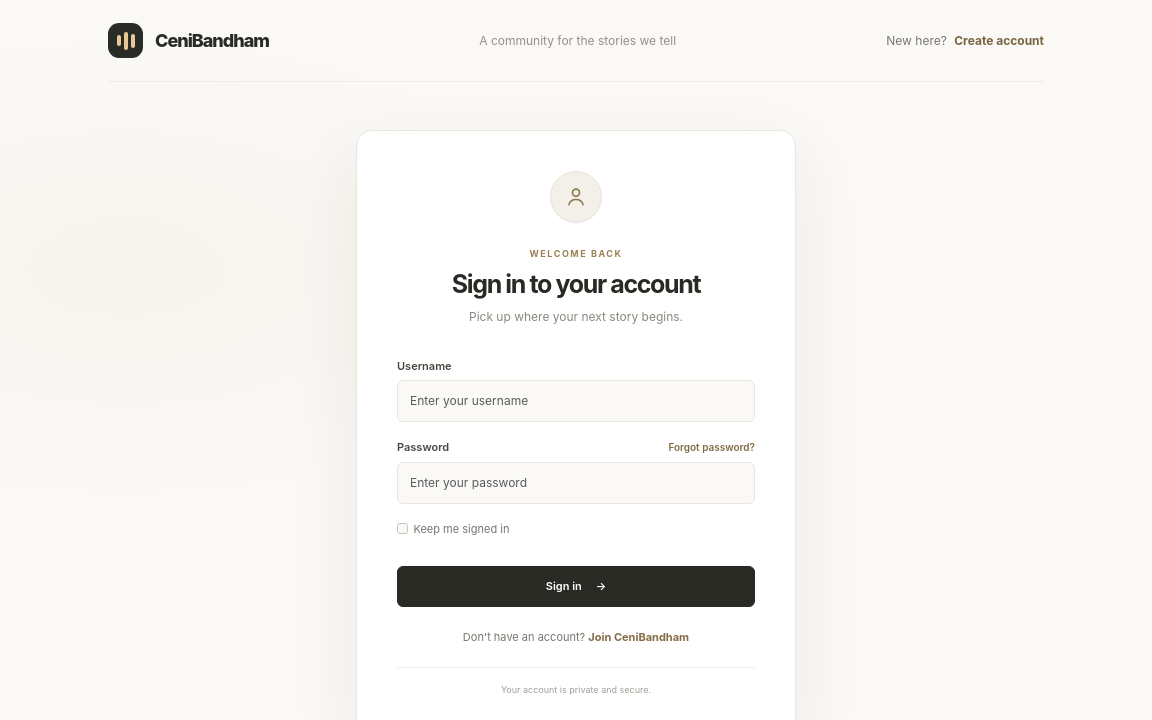
it: Login › shows API errors when sign-in fails
The width and height of the screenshot is (1152, 720).
Step 1. Type "actor_rao" into the field labelled "Username" → (576, 401), box [397, 380, 755, 422]
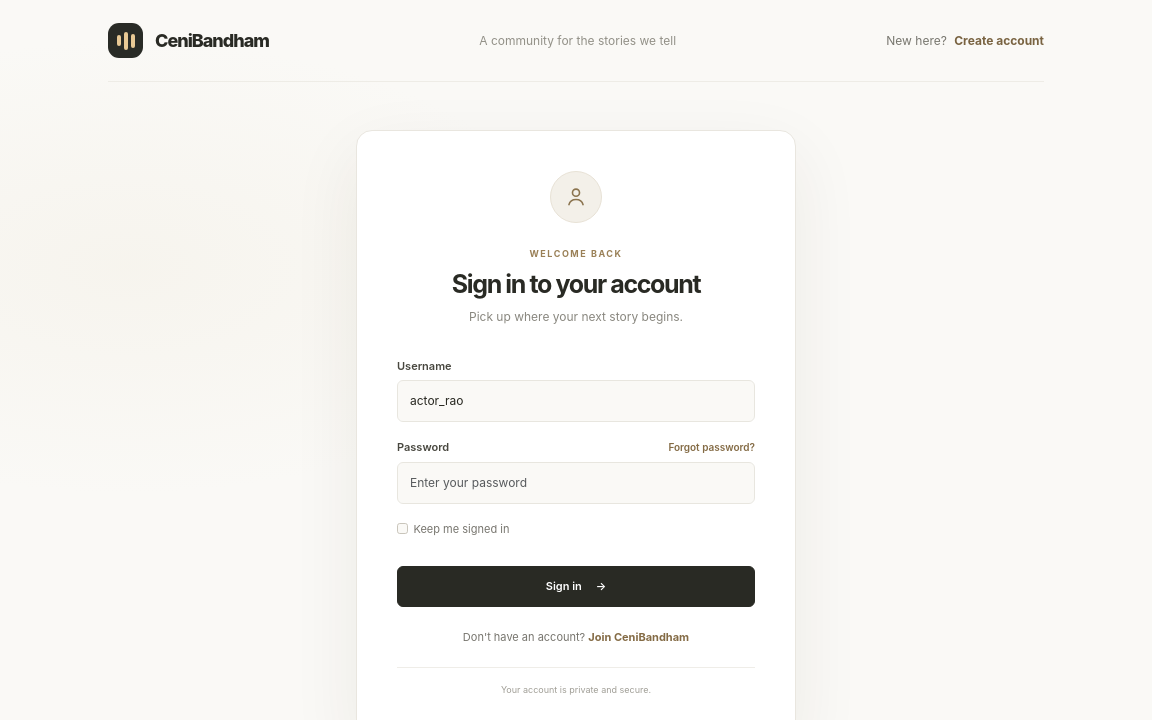
Step 2. Type "incorrectpass" into the password field labelled "Password" → (576, 482), box [397, 462, 755, 504]
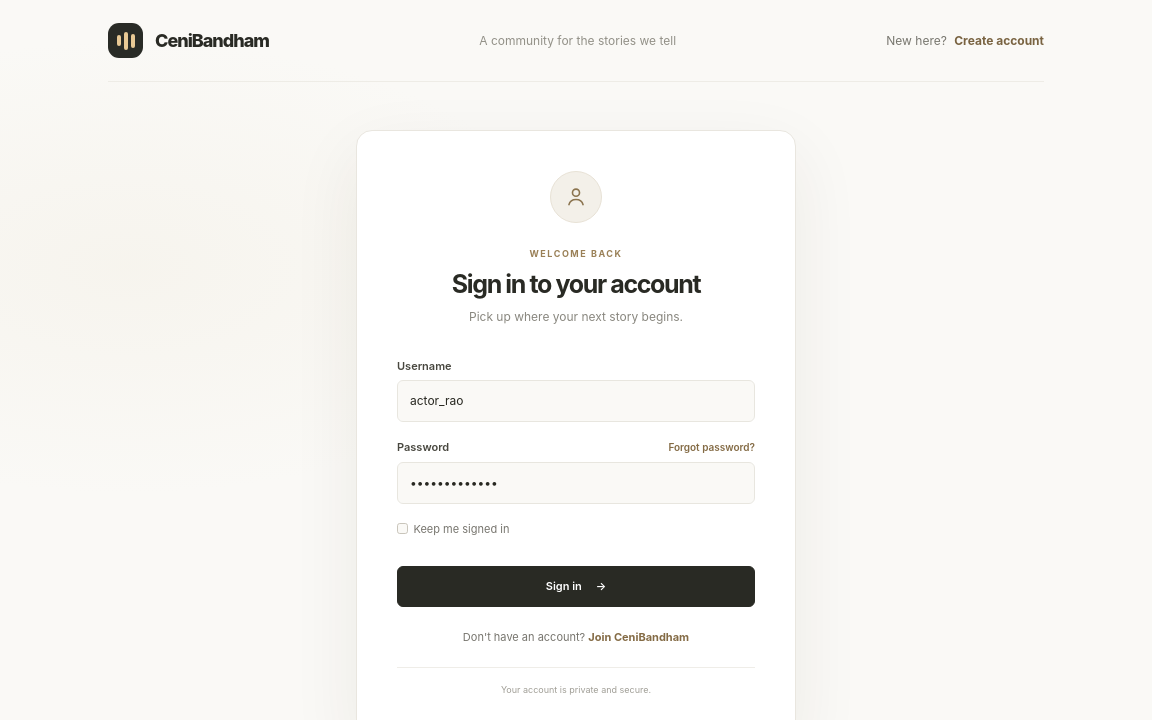
Step 3. Click the button "Sign in →" → (576, 586), box [397, 566, 755, 606]
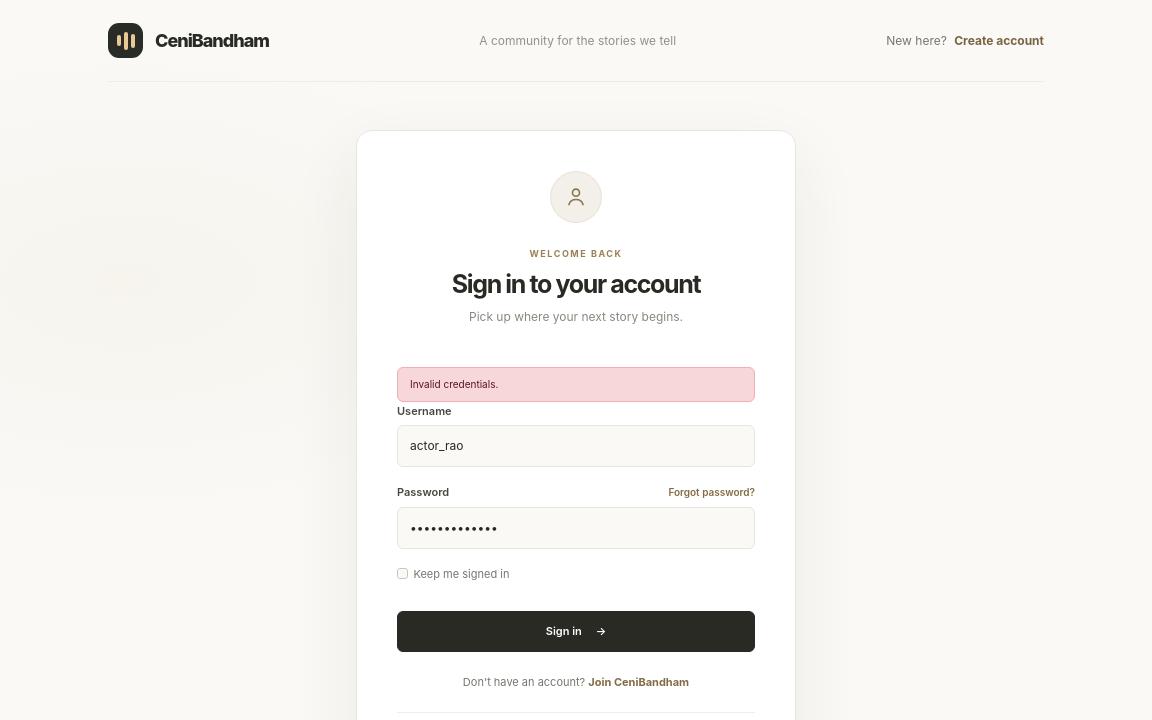
expect the message reads "Invalid credentials.": met, box [410, 378, 498, 390]
